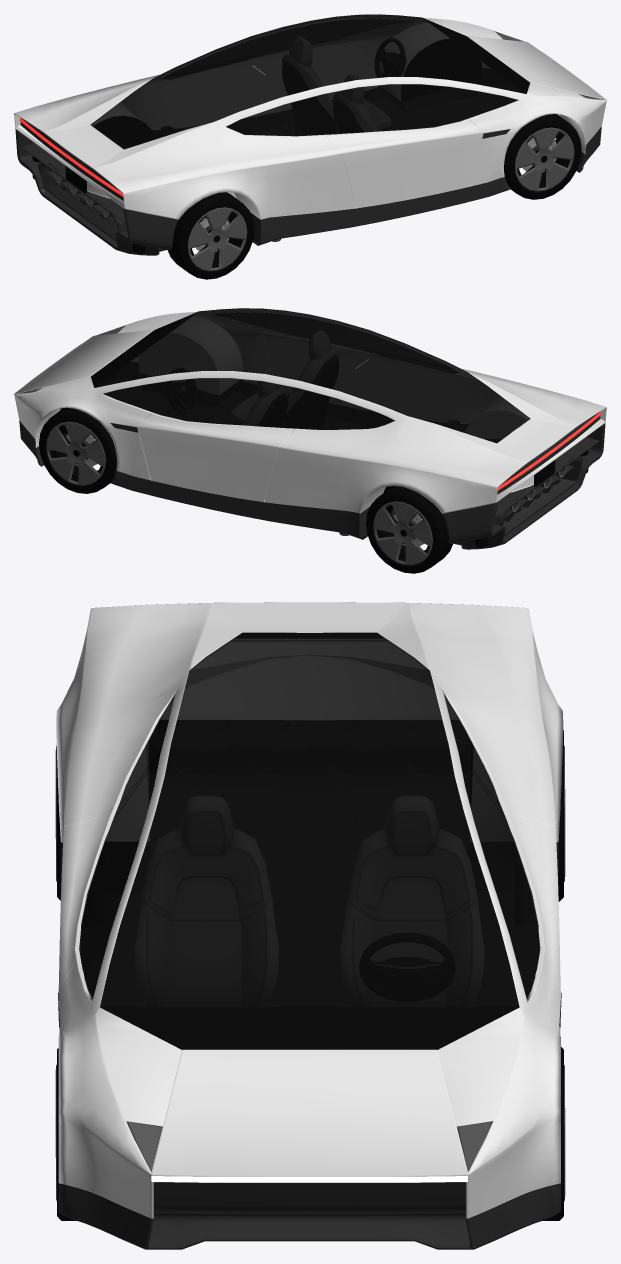
Rendered from new_tesla_roadster_2027.original.glb.
3 renders of one model, top to bottom at view 1: azimuth 30°, elevation 25°; view 2: azimuth 150°, elevation 25°; view 3: azimuth 270°, elevation 25°, orthographic. The views are drawn at different scales.
Visible parts, largest first — view 1: object 7, object 6, object 5, Asientos_Tesla_Interior_0_0, LF_WHEEL_Tesla_Wheels_0.003_37, object 3, LF_WHEEL_Tesla_Wheels_0.001_29, LF_HUBCOVER_Tesla_Base_0.001_28, LF_HUBCOVER_Tesla_Base_0.003_36, Plane.005_BaseBlack_0_19, Plane.004_BaseBlack_0_17, Steering_Wheel_Tesla_Interior_0_21 (+3 smaller); view 2: object 7, object 6, object 5, Asientos_Tesla_Interior_0_0, LF_WHEEL_Tesla_Wheels_0.002_33, object 3, LF_WHEEL_Tesla_Wheels_0_25, LF_HUBCOVER_Tesla_Base_0.002_32, LF_HUBCOVER_Tesla_Base_0_24, Plane.005_BaseBlack_0_19, Plane.004_BaseBlack_0_17, Steering_Wheel_Tesla_Interior_0_21 (+3 smaller); view 3: object 6, object 7, object 3, object 5, Asientos_Tesla_Interior_0_0, Plane.005_BaseBlack_0_19, Steering_Wheel_Tesla_Interior_0_21, object 4, Plane.002_BaseBlack_0_16, Cylinder.008_BaseBlack_3_13, Cylinder.008_BaseBlack_4_14.
Part boxes in pixels (<box>): object 7: <box>14,14,606,219</box>; object 6: <box>90,14,529,149</box>; object 5: <box>15,69,601,255</box>; Asientos_Tesla_Interior_0_0: <box>282,37,391,134</box>; LF_WHEEL_Tesla_Wheels_0.003_37: <box>167,192,254,279</box>; object 3: <box>467,36,606,100</box>; LF_WHEEL_Tesla_Wheels_0.001_29: <box>504,114,581,199</box>; LF_HUBCOVER_Tesla_Base_0.001_28: <box>515,127,574,191</box>; LF_HUBCOVER_Tesla_Base_0.003_36: <box>187,207,247,271</box>; Plane.005_BaseBlack_0_19: <box>21,143,125,241</box>; Plane.004_BaseBlack_0_17: <box>20,118,123,200</box>; Steering_Wheel_Tesla_Interior_0_21: <box>375,38,405,77</box>; object 7: <box>14,308,606,513</box>; object 6: <box>91,308,530,443</box>; object 5: <box>19,362,605,549</box>; Asientos_Tesla_Interior_0_0: <box>230,331,338,428</box>; LF_WHEEL_Tesla_Wheels_0.002_33: <box>366,486,453,573</box>; object 3: <box>14,329,153,394</box>; LF_WHEEL_Tesla_Wheels_0_25: <box>39,407,117,493</box>; LF_HUBCOVER_Tesla_Base_0.002_32: <box>373,501,432,565</box>; LF_HUBCOVER_Tesla_Base_0_24: <box>46,421,105,485</box>; Plane.005_BaseBlack_0_19: <box>495,437,599,535</box>; Plane.004_BaseBlack_0_17: <box>497,412,600,494</box>; Steering_Wheel_Tesla_Interior_0_21: <box>166,368,196,413</box>; object 6: <box>80,632,539,1049</box>; object 7: <box>56,602,563,1218</box>; object 3: <box>149,1049,470,1244</box>; object 5: <box>58,741,560,1249</box>; Asientos_Tesla_Interior_0_0: <box>135,796,483,1006</box>; Plane.005_BaseBlack_0_19: <box>150,655,468,772</box>; Steering_Wheel_Tesla_Interior_0_21: <box>359,933,454,1001</box>; object 4: <box>151,1176,467,1182</box>; Plane.002_BaseBlack_0_16: <box>154,741,464,747</box>; Cylinder.008_BaseBlack_3_13: <box>83,858,106,925</box>; Cylinder.008_BaseBlack_4_14: <box>514,858,536,925</box>.
Size of the model in its own units: 4.31 by 1.15 by 1.9.
Materials: 12 (7 with a texture image).
